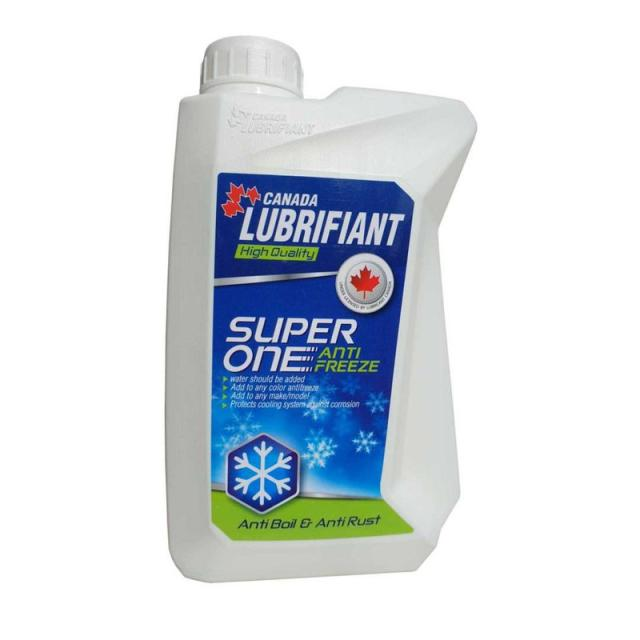coolant: (160, 31, 482, 582)
